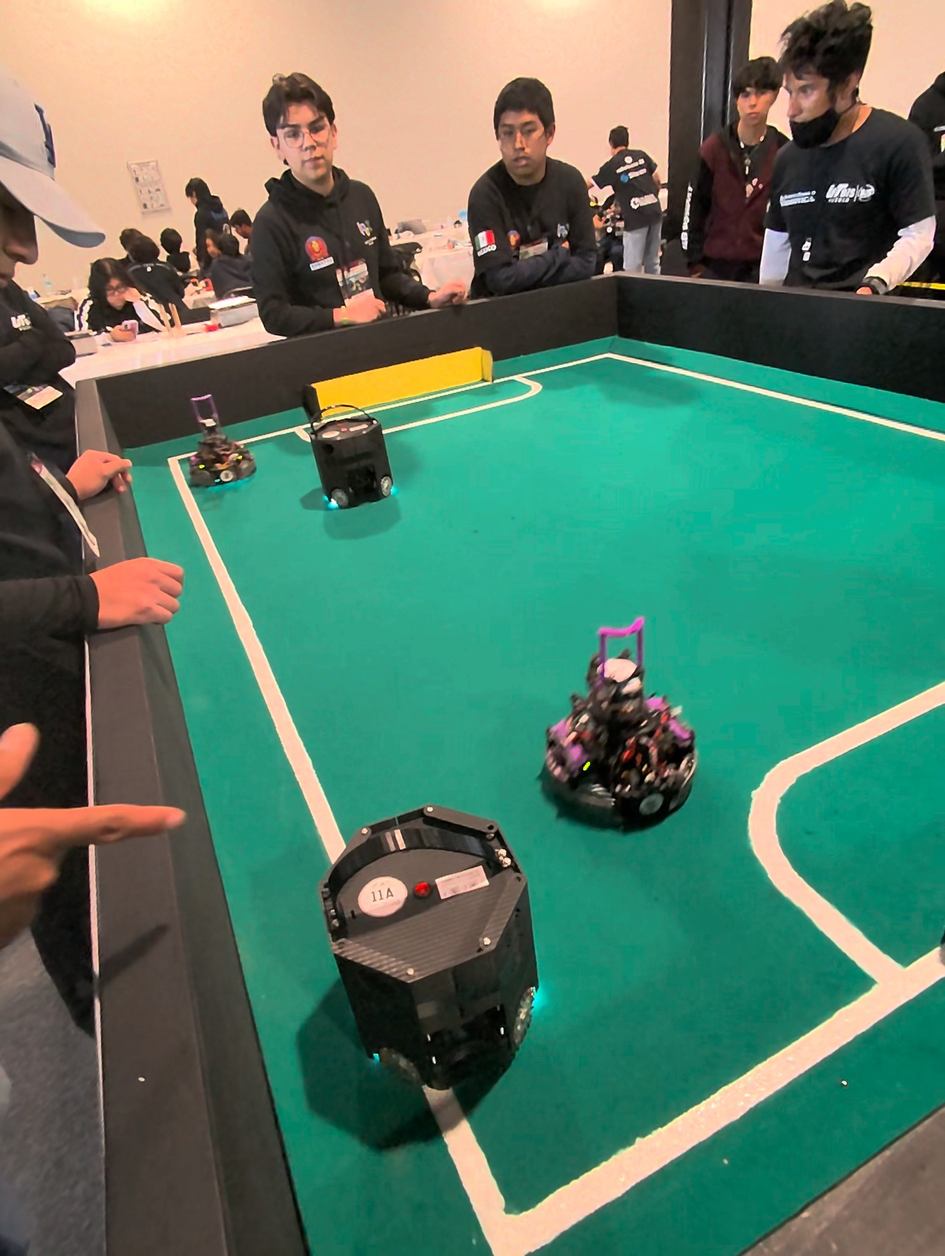Robot: (264, 795, 560, 1110), (545, 651, 703, 844), (294, 373, 405, 538), (183, 386, 260, 495)
